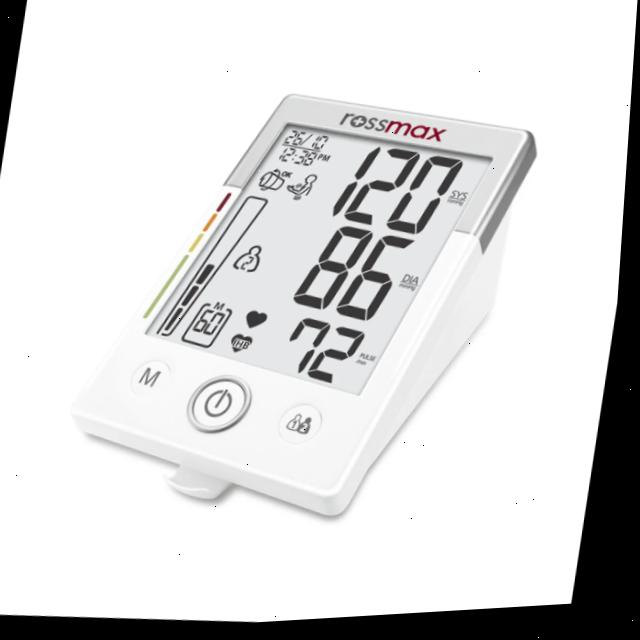dia: (275, 210, 429, 339)
pul: (255, 303, 383, 399)
ssd: (149, 56, 498, 442)
sys: (313, 135, 474, 252)
